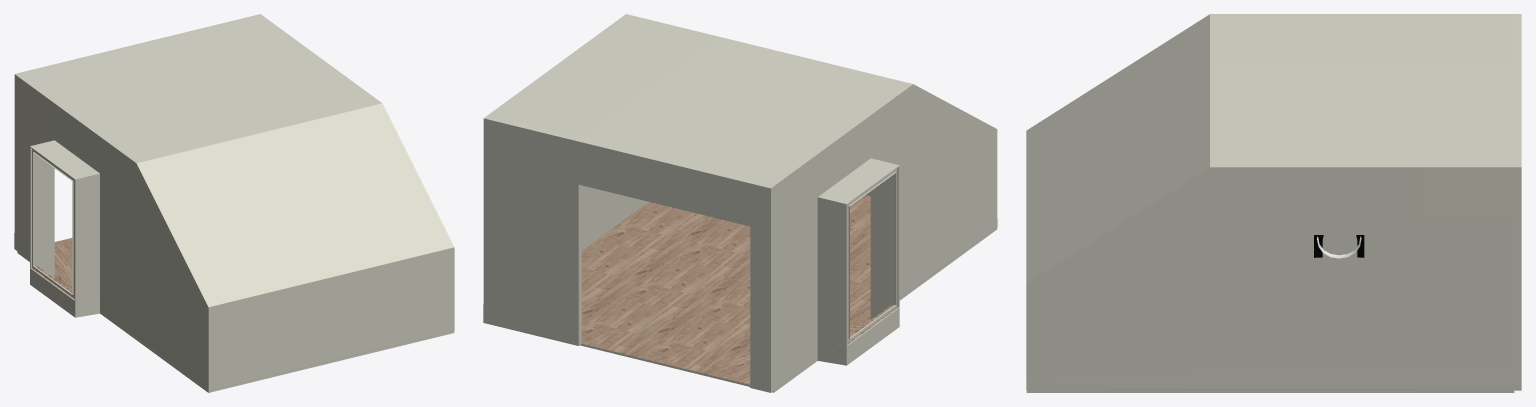
The model's file is piece2.fbx.
3 renders of one model, left to right at view 1: azimuth 30°, elevation 25°; view 2: azimuth 150°, elevation 25°; view 3: azimuth 270°, elevation 25°, orthographic. The views are drawn at different scales.
Parts seen in each view (by area): view 1: 2; view 2: 2; view 3: 2, lamp2.
Part boxes in pixels (x1,y1,x2,y2): 2: (14, 14, 454, 392); 2: (483, 14, 997, 392); 2: (1026, 14, 1521, 392); lamp2: (1314, 235, 1364, 258).
Size of the model in its own units: 767 by 472 by 938.
